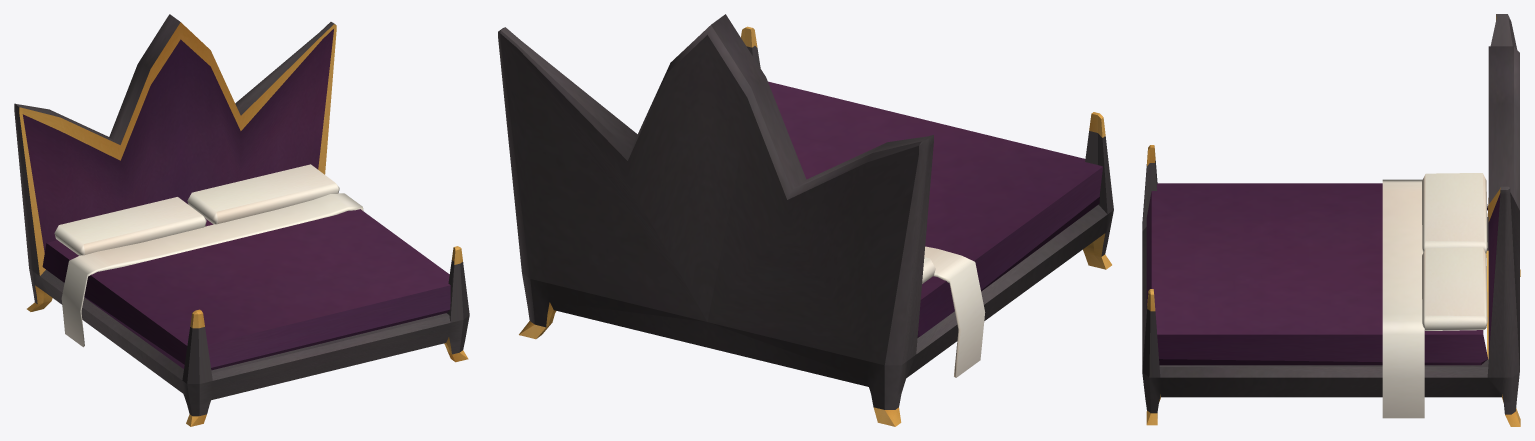
File: SM_king_bed_02.fbx
3 renders of one model, left to right at view 1: azimuth 30°, elevation 25°; view 2: azimuth 150°, elevation 25°; view 3: azimuth 270°, elevation 25°, orthographic. The views are drawn at different scales.
Parts seen in each view (by area): view 1: SM_king_bed_02; view 2: SM_king_bed_02; view 3: SM_king_bed_02.
Part boxes in pixels (x1,y1,x2,y2): SM_king_bed_02: (14,14,469,426); SM_king_bed_02: (498,14,1113,426); SM_king_bed_02: (1142,14,1520,426).
Size of the model in its own units: 3.87 by 3.05 by 3.46.
